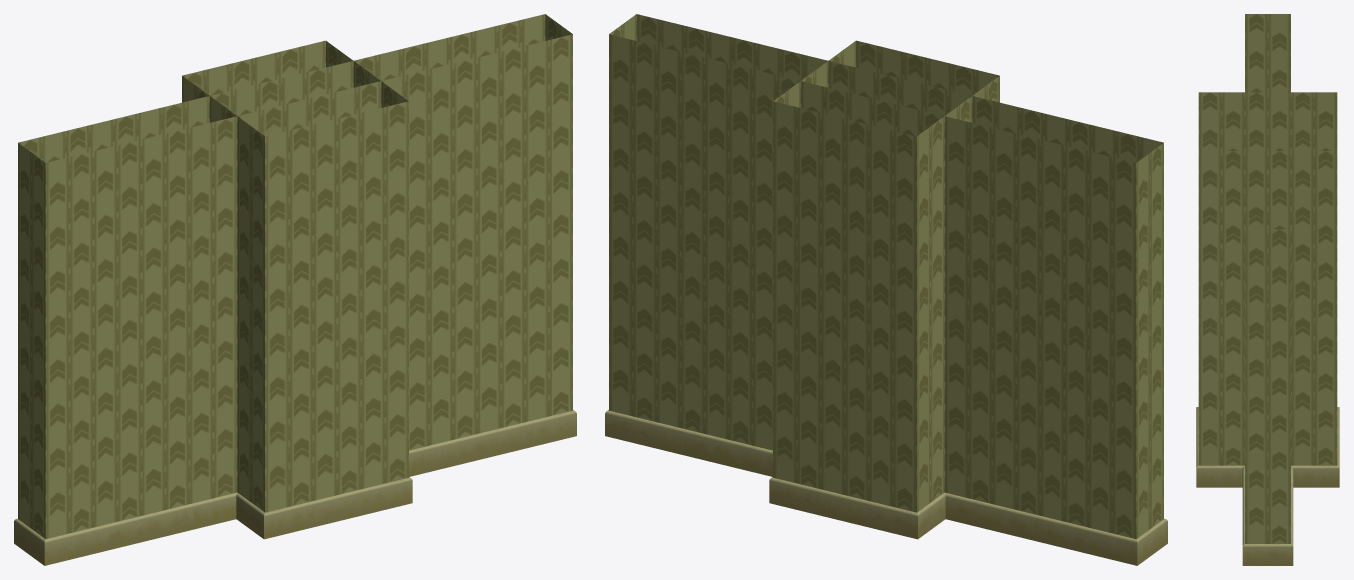
The model's file is WallBottomWithColumn.fbx.
The picture shows the model from 3 angles, left to right: view 1: azimuth 30°, elevation 25°; view 2: azimuth 150°, elevation 25°; view 3: azimuth 270°, elevation 25°; orthographic projection. The views are drawn at different scales.
Visible parts, largest first — view 1: WallBottomBase.001; view 2: WallBottomBase.001; view 3: WallBottomBase.001.
Boxes of the visible parts, x1=… form: WallBottomBase.001: x1=14, y1=14, x2=576, y2=565; WallBottomBase.001: x1=605, y1=14, x2=1167, y2=565; WallBottomBase.001: x1=1196, y1=14, x2=1339, y2=565.
Bounding box in the file's own units: 555 × 400 × 155.
